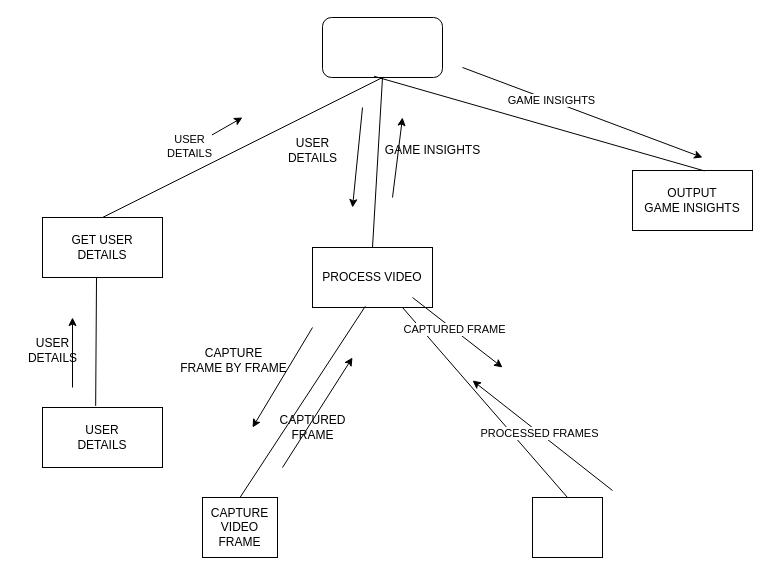
Some shapes in this 770 by 575 pixel diagram are drawn without their labels. The shapes that lost their labels are listed below. From the top down, each one's centre as x and y in pixels, then its label:
At pixel 382 47: "HoopsEYE".
At pixel 567 527: "GENERATE PROCESSED FRAMES".
